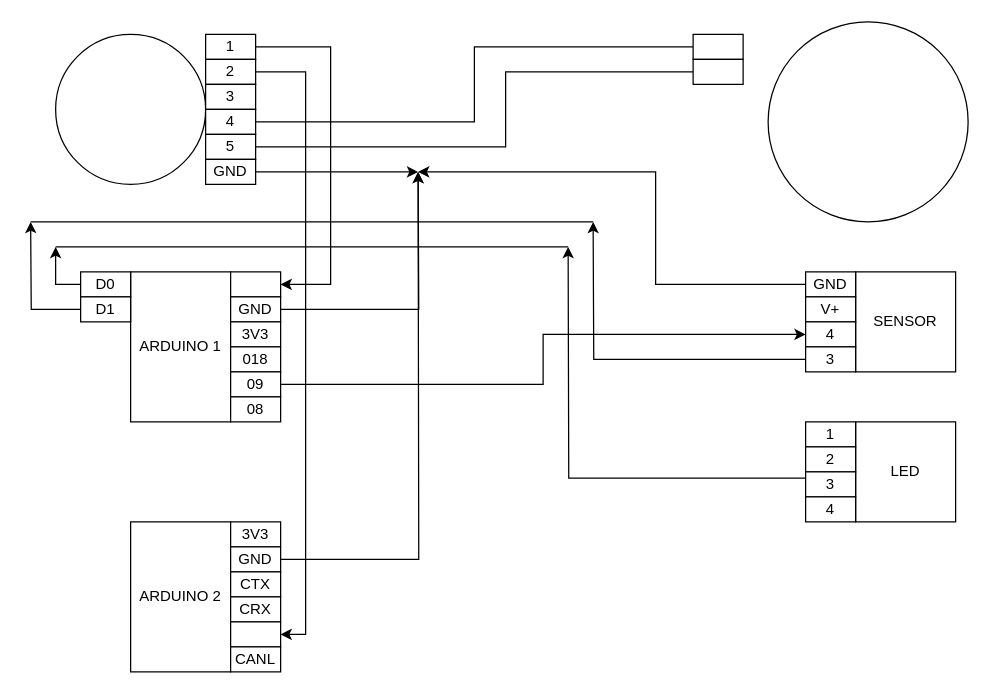
The diagram is 990 pixels wide and 694 high, and some of its shapes have lost their labels. The shapes that lost their labels are listed below. From the top down, each one's centre as x and y in pixels, then its label:
the point at 717,46: Signal
the point at 717,71: Ground
the point at 130,108: CABLE IN
the point at 867,121: SPEAKER
the point at 255,284: VUSB
the point at 255,634: CANH
